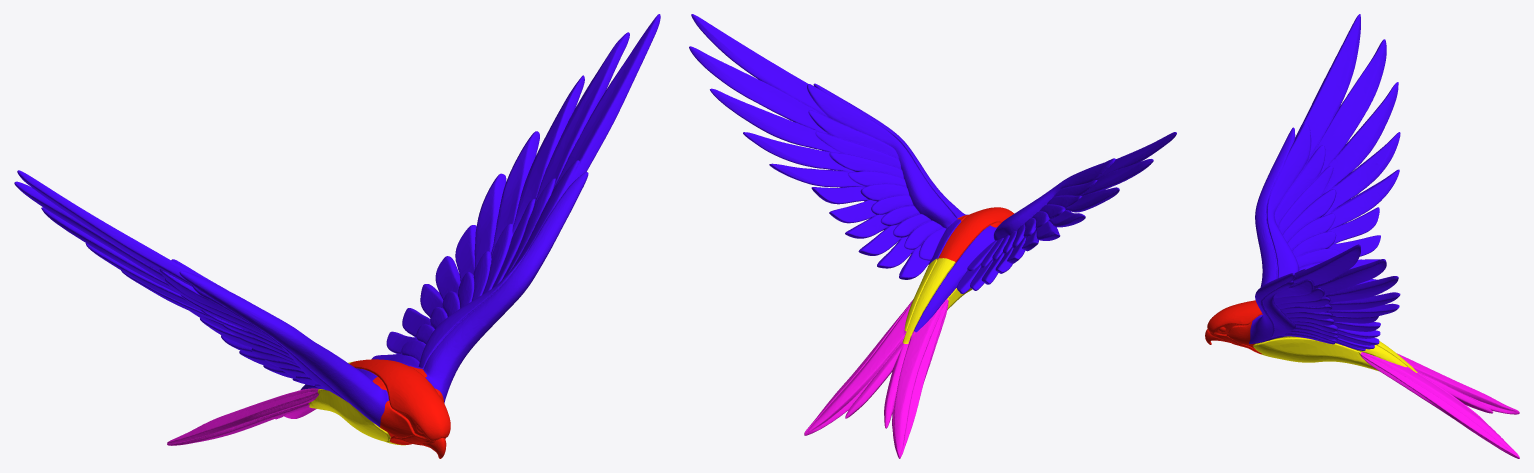
The model's file is meshy-falcon-source.glb.
The picture shows the model from 3 angles, left to right: view 1: azimuth 30°, elevation 25°; view 2: azimuth 150°, elevation 25°; view 3: azimuth 270°, elevation 25°; orthographic projection. The views are drawn at different scales.
Visible parts, largest first — view 1: model_part4, model_part5, model_part2, model_part3, model_part1; view 2: model_part4, model_part5, model_part3, model_part2, model_part0; view 3: model_part5, model_part4, model_part3, model_part1, model_part2, model_part0.
Part boxes in pixels (left/top/right/bottom): model_part4: left=372, top=14, right=660, bottom=403; model_part5: left=14, top=170, right=388, bottom=427; model_part2: left=349, top=359, right=450, bottom=458; model_part3: left=167, top=388, right=318, bottom=445; model_part1: left=308, top=389, right=405, bottom=445; model_part4: left=689, top=14, right=968, bottom=279; model_part5: left=914, top=132, right=1176, bottom=332; model_part3: left=804, top=299, right=948, bottom=458; model_part2: left=937, top=207, right=1014, bottom=262; model_part0: left=903, top=258, right=955, bottom=343; model_part5: left=1255, top=14, right=1400, bottom=286; model_part4: left=1249, top=244, right=1400, bottom=350; model_part3: left=1360, top=352, right=1519, bottom=458; model_part1: left=1253, top=336, right=1378, bottom=371; model_part2: left=1205, top=300, right=1262, bottom=354; model_part0: left=1335, top=341, right=1417, bottom=372.
Size of the model in its own units: 0.12 by 0.0744 by 0.0691.
